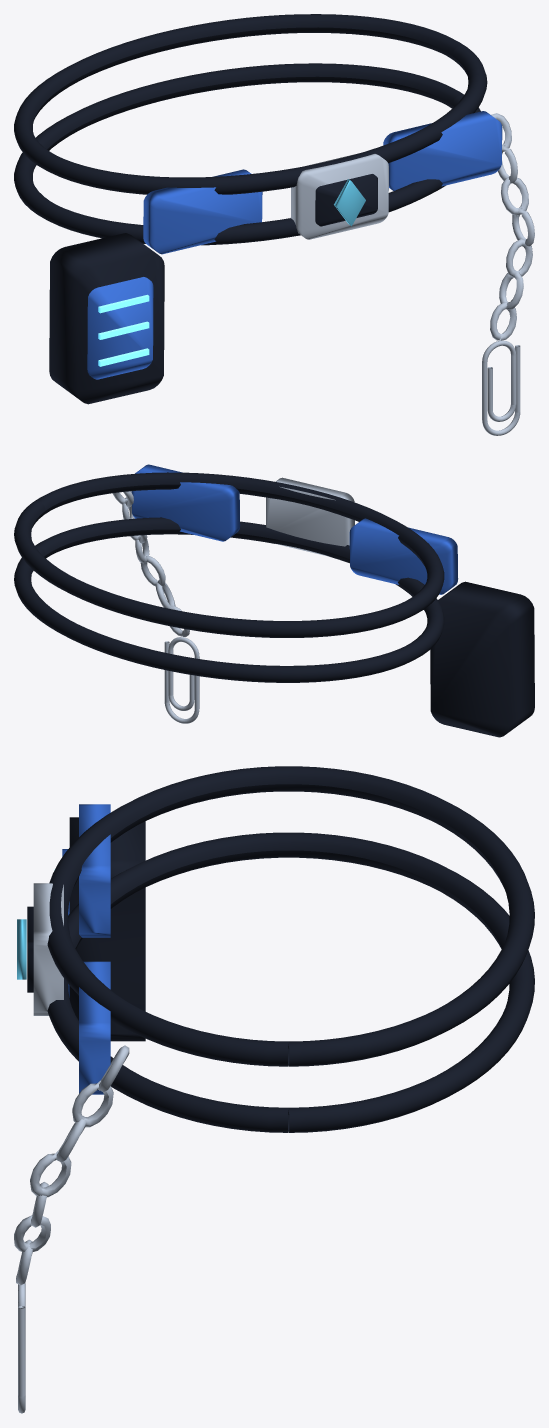
The model's file is nova_belt_and_charms.glb.
3 renders of one model, top to bottom at view 1: azimuth 30°, elevation 25°; view 2: azimuth 150°, elevation 25°; view 3: azimuth 270°, elevation 25°, orthographic. The views are drawn at different scales.
Visible parts, largest first — view 1: nova_belt_and_charms; view 2: nova_belt_and_charms; view 3: nova_belt_and_charms.
Part boxes in pixels (box(x1,y1,x2,y2)): nova_belt_and_charms: box(14, 14, 534, 435); nova_belt_and_charms: box(14, 464, 534, 737); nova_belt_and_charms: box(14, 766, 534, 1413).
Size of the model in its own units: 0.4615 by 0.2821 by 0.3279.
